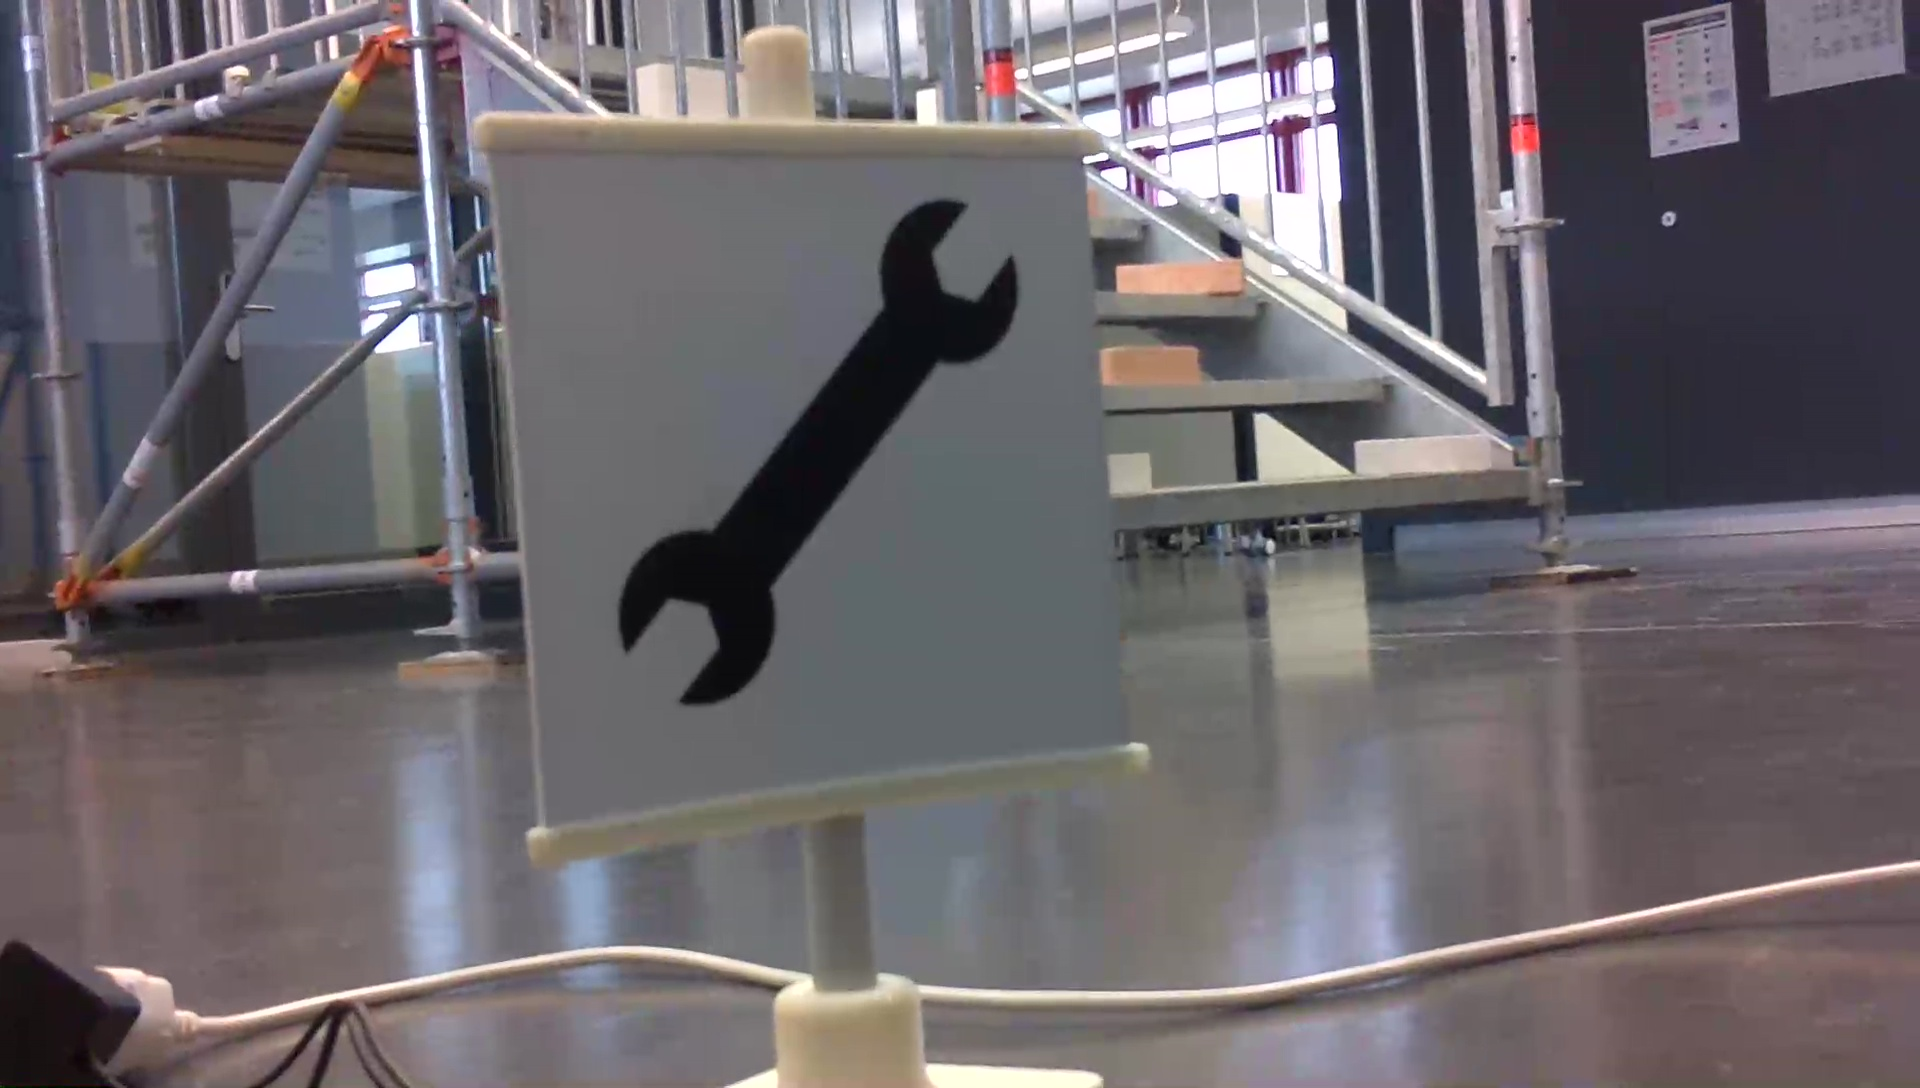brick: (1356, 433, 1485, 471), (1117, 262, 1242, 293), (1098, 348, 1193, 386), (1108, 448, 1149, 491)
edge: (1116, 469, 1534, 528), (1100, 376, 1393, 408), (1092, 290, 1269, 317)
wrench: (607, 190, 1030, 712)
